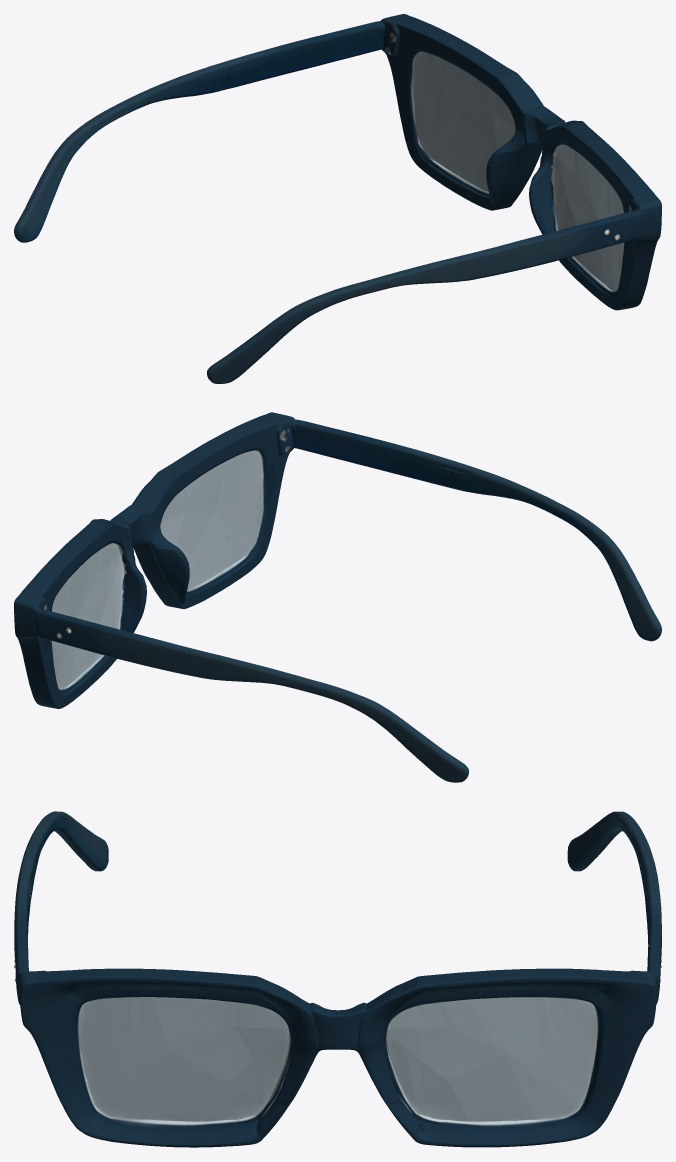
File: eyeglasses_3d_model.glb
The picture shows the model from 3 angles, top to bottom: view 1: azimuth 30°, elevation 25°; view 2: azimuth 150°, elevation 25°; view 3: azimuth 270°, elevation 25°; orthographic projection. The views are drawn at different scales.
Parts seen in each view (by area): view 1: tripo_node_a2a7c78d-9572-4ca8-8aa8-020504c539b9; view 2: tripo_node_a2a7c78d-9572-4ca8-8aa8-020504c539b9; view 3: tripo_node_a2a7c78d-9572-4ca8-8aa8-020504c539b9.
Part boxes in pixels (<box>): tripo_node_a2a7c78d-9572-4ca8-8aa8-020504c539b9: <box>14,14,661,383</box>; tripo_node_a2a7c78d-9572-4ca8-8aa8-020504c539b9: <box>14,412,661,782</box>; tripo_node_a2a7c78d-9572-4ca8-8aa8-020504c539b9: <box>14,811,661,1147</box>.
Bounding box in the file's own units: 0.9752 × 0.2917 × 1.
1 material, 1 textured.
